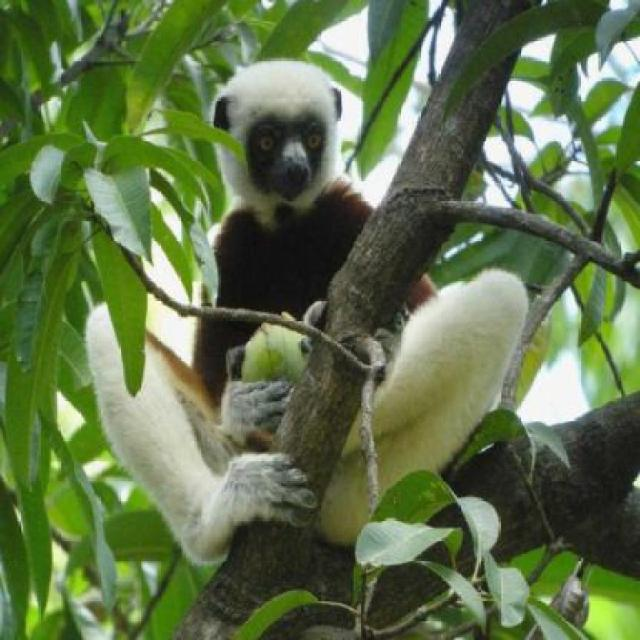Monkey: (102, 19, 573, 541)
